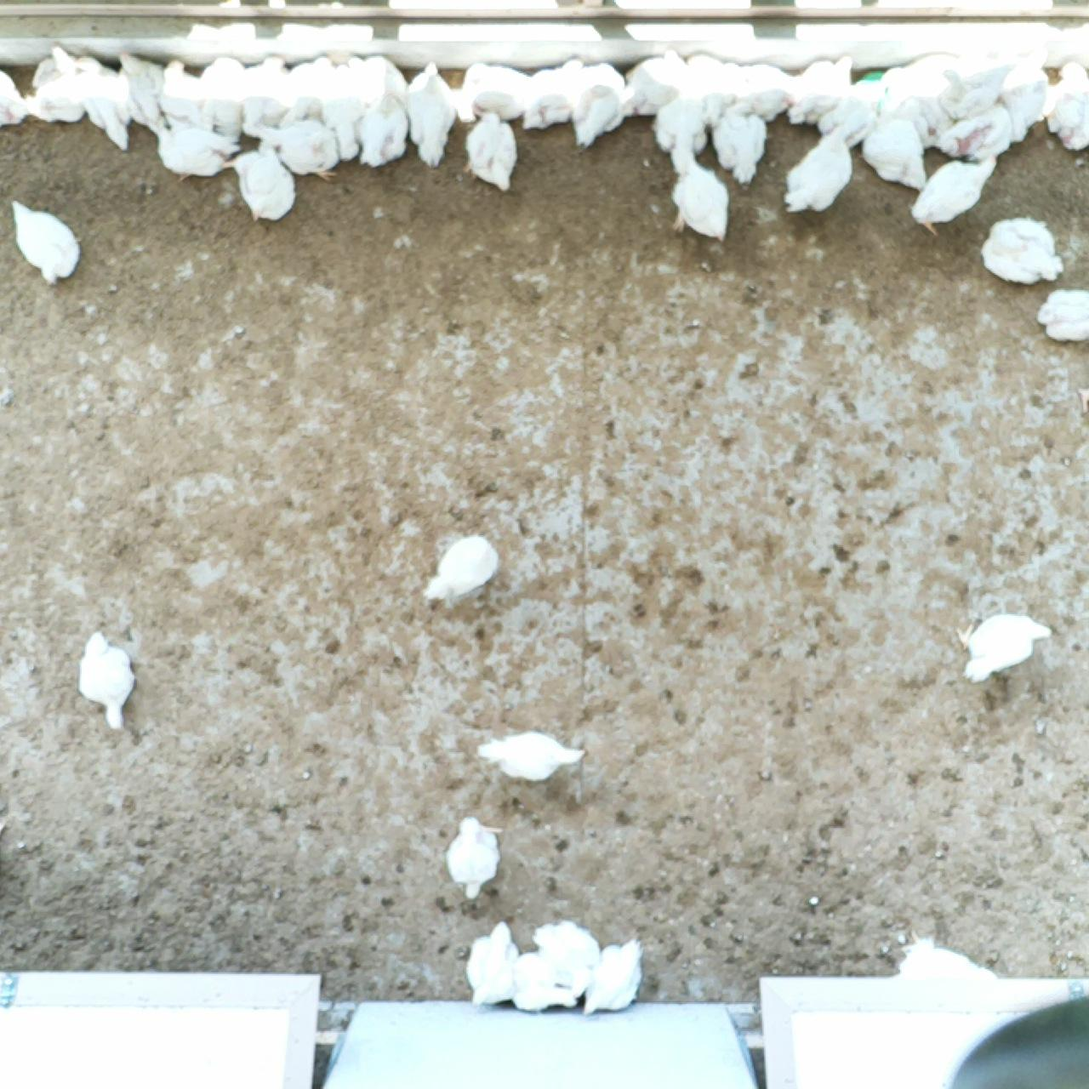chicken: (953, 608, 1057, 683), (779, 120, 858, 217), (237, 115, 347, 183), (472, 725, 589, 787), (68, 53, 140, 152), (4, 196, 84, 284), (73, 629, 140, 733), (224, 135, 300, 225), (668, 146, 737, 244), (892, 930, 1002, 990), (710, 91, 774, 192), (320, 59, 376, 173), (784, 51, 858, 137), (976, 213, 1065, 284), (860, 110, 931, 197), (152, 113, 239, 184), (932, 94, 1020, 164), (650, 80, 711, 179), (404, 61, 459, 170), (991, 47, 1055, 139), (815, 74, 891, 151), (424, 530, 503, 604), (611, 46, 691, 119), (466, 916, 528, 1008), (444, 812, 507, 902), (112, 46, 170, 143), (529, 917, 599, 996), (570, 58, 627, 154), (506, 947, 583, 1018), (581, 934, 646, 1018), (237, 56, 297, 147), (345, 86, 409, 171), (520, 54, 589, 132), (935, 56, 1021, 118), (463, 103, 521, 194), (717, 58, 798, 123), (25, 43, 84, 130), (281, 52, 340, 136), (192, 56, 247, 146), (875, 46, 953, 109), (456, 62, 541, 119), (1045, 58, 1089, 161), (155, 55, 212, 134), (682, 51, 739, 128), (891, 84, 955, 152), (346, 52, 416, 114), (1034, 285, 1089, 344), (0, 68, 36, 126)
